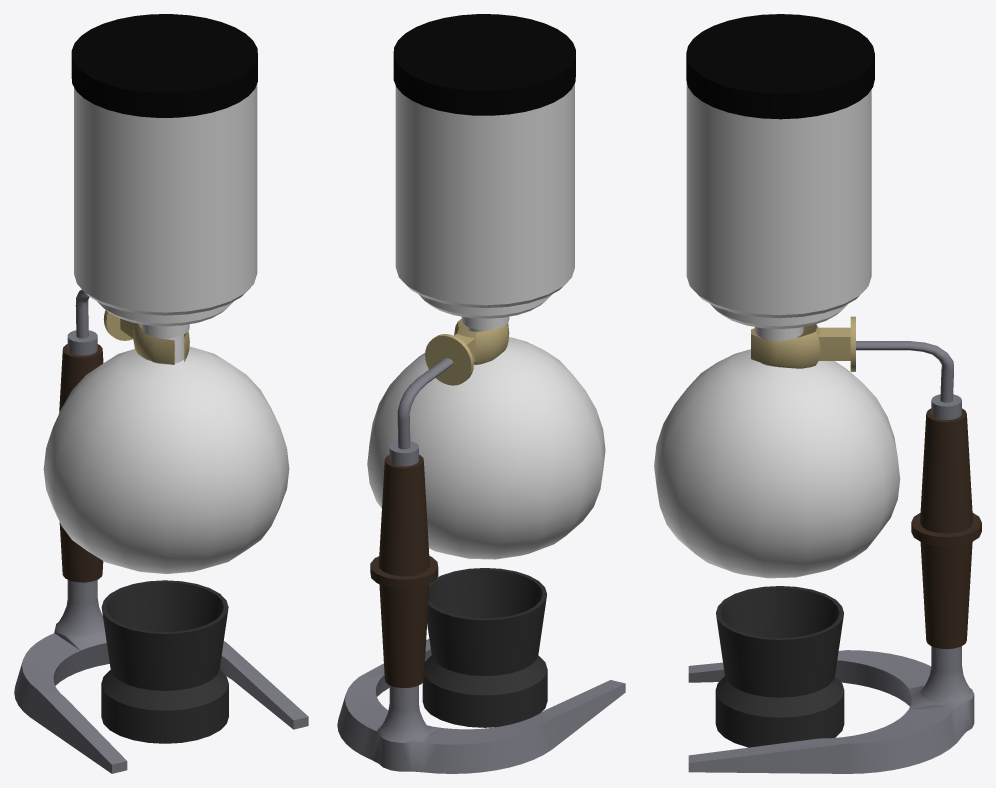
The model's file is siphon.glb.
3 views of the same model, side by side, from view 1: azimuth 30°, elevation 25°; view 2: azimuth 150°, elevation 25°; view 3: azimuth 270°, elevation 25° (orthographic). The views are drawn at different scales.
Visible parts, largest first — view 1: サイフォン; view 2: サイフォン; view 3: サイフォン.
Part boxes in pixels (x1,y1,x2,y2): サイフォン: (14,14,308,773); サイフォン: (337,14,625,773); サイフォン: (654,14,981,773).
Size of the model in its own units: 0.1336 by 0.4012 by 0.1779.
